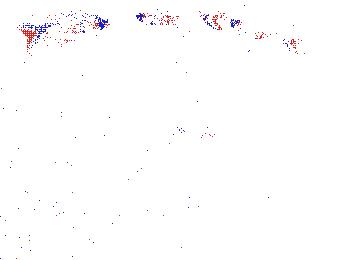red belly glassfish: (179, 125, 221, 142)
redtail glassfish: (21, 12, 110, 50), (228, 15, 300, 58), (135, 7, 226, 32)
